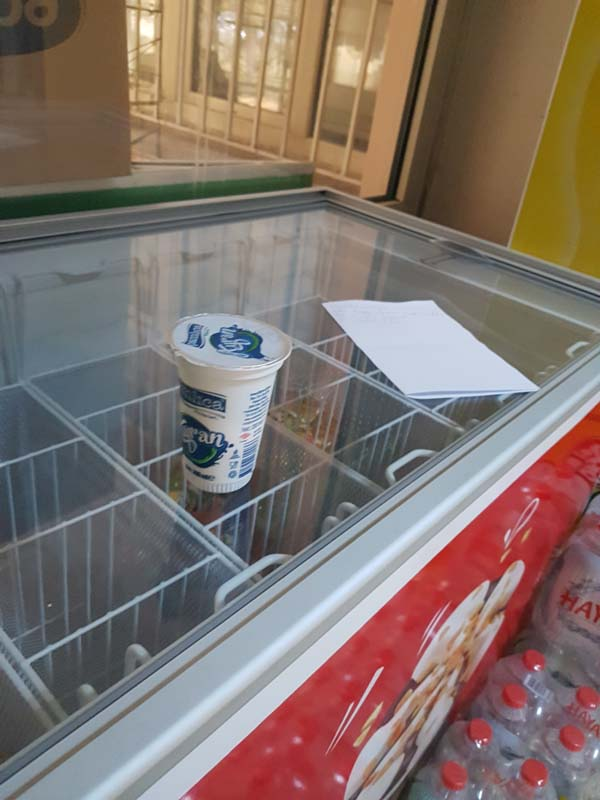camlicaayran: (166, 309, 298, 496)
